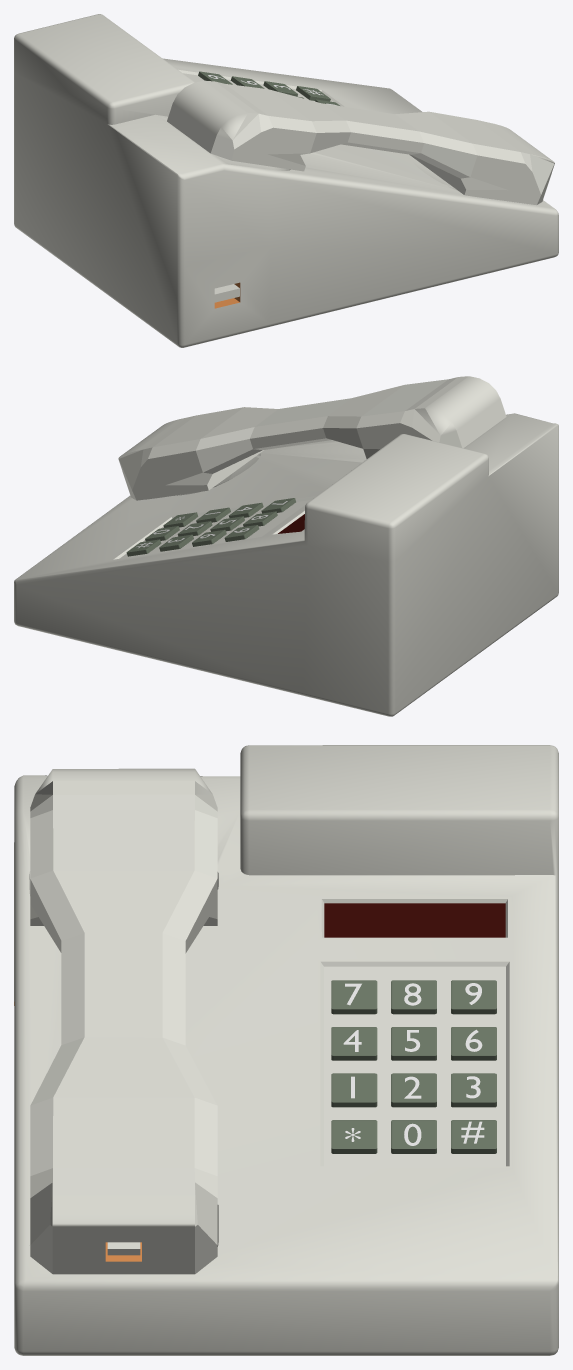
File: Telephone.fbx
3 views of the same model, one above another, from view 1: azimuth 30°, elevation 25°; view 2: azimuth 150°, elevation 25°; view 3: azimuth 270°, elevation 25° (orthographic). The views are drawn at different scales.
Parts seen in each view (by area): view 1: Telephone, Telephone1; view 2: Telephone, Telephone1; view 3: Telephone, Telephone1, Button1, Button, Button7, Button3, Button2, Button4, Button9, Button5, Button8, Button6 (+2 smaller).
Boxes of the visible parts, x1,y1,x2,y2 form: Telephone: (14,14,558,347); Telephone1: (167,80,554,205); Telephone: (14,413,558,716); Telephone1: (118,376,506,500); Telephone: (14,745,558,1355); Telephone1: (30,768,217,1274); Button1: (331,1073,377,1107); Button: (331,1120,377,1153); Button7: (331,980,377,1014); Button3: (451,1073,496,1107); Button2: (391,1073,436,1107); Button4: (331,1027,377,1060); Button9: (451,980,496,1014); Button5: (391,1027,436,1060); Button8: (391,980,436,1014); Button6: (451,1027,496,1060).
Bounding box in the file's own units: 266 × 138 × 200.
